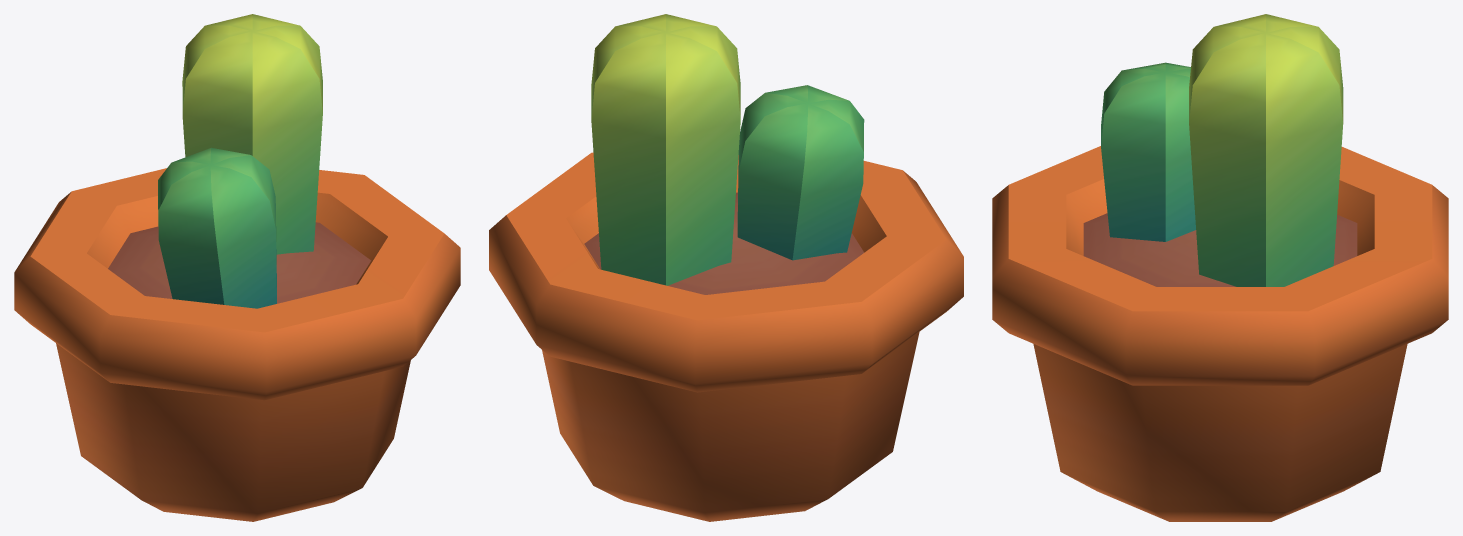
File: cactus_small_b.glb
3 views of the same model, side by side, from view 1: azimuth 30°, elevation 25°; view 2: azimuth 150°, elevation 25°; view 3: azimuth 270°, elevation 25° (orthographic). The views are drawn at different scales.
Parts seen in each view (by area): view 1: cactus_small_B; view 2: cactus_small_B; view 3: cactus_small_B.
Boxes of the visible parts, x1,y1,x2,y2 form: cactus_small_B: [14, 14, 460, 521]; cactus_small_B: [489, 14, 963, 521]; cactus_small_B: [992, 14, 1448, 521].
Size of the model in its own units: 0.5 by 0.5516 by 0.5.
1 material, 1 textured.
